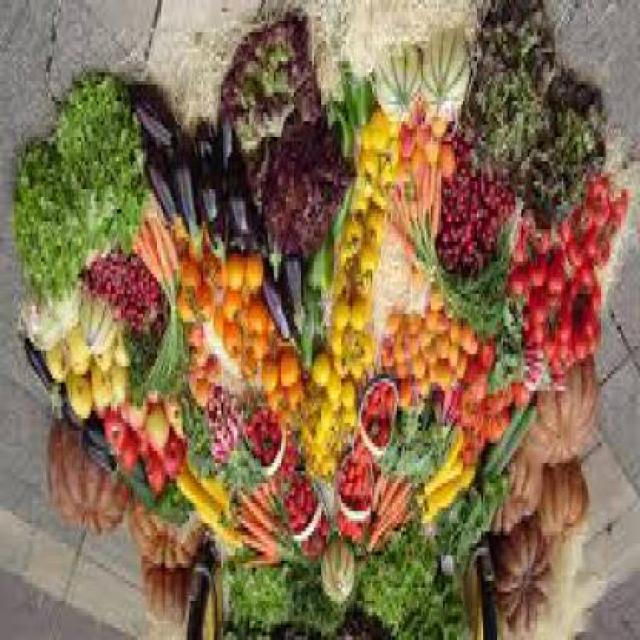BIODEGRADABLE: (462, 8, 558, 181), (61, 72, 147, 262), (249, 117, 357, 266), (219, 16, 324, 158), (441, 117, 519, 277), (428, 218, 527, 342), (16, 138, 90, 298), (529, 72, 606, 222), (46, 427, 131, 544), (356, 528, 441, 635), (520, 366, 602, 471), (127, 293, 191, 407), (492, 532, 559, 639), (440, 487, 514, 579), (130, 503, 208, 575), (376, 419, 455, 487), (91, 258, 163, 330), (364, 471, 419, 560), (424, 32, 473, 125), (489, 459, 545, 539), (289, 568, 349, 638), (232, 560, 292, 628), (538, 470, 590, 548), (228, 161, 266, 262), (374, 48, 423, 125), (400, 588, 475, 638), (143, 564, 195, 636), (130, 475, 196, 531), (490, 306, 528, 399), (418, 435, 468, 503), (134, 97, 180, 165), (188, 468, 244, 523), (411, 451, 466, 507), (148, 157, 186, 237), (210, 394, 248, 472), (484, 415, 528, 479), (178, 475, 228, 531), (425, 471, 477, 523), (180, 152, 206, 254), (268, 282, 302, 358), (82, 294, 122, 358), (499, 415, 538, 479), (204, 173, 231, 265), (20, 298, 60, 358), (322, 543, 356, 608), (362, 386, 396, 451), (82, 427, 121, 482), (360, 109, 398, 165), (388, 218, 426, 273), (153, 226, 179, 306), (189, 415, 220, 482), (574, 286, 601, 362), (528, 350, 568, 399), (344, 72, 376, 132), (246, 407, 280, 462), (28, 342, 58, 402), (286, 262, 308, 342), (342, 459, 375, 512), (142, 226, 167, 294), (306, 242, 336, 298), (330, 186, 358, 246), (306, 298, 326, 378), (288, 483, 318, 535), (332, 101, 354, 168), (59, 286, 85, 342), (451, 390, 483, 435), (55, 399, 87, 443), (524, 326, 562, 362), (69, 382, 96, 432), (147, 410, 173, 459), (198, 133, 219, 189), (464, 362, 490, 407), (219, 104, 238, 164), (435, 390, 459, 435), (531, 213, 555, 258), (398, 193, 420, 242), (69, 334, 93, 378), (350, 334, 376, 374), (516, 218, 536, 270), (527, 290, 553, 330), (556, 294, 576, 346), (205, 527, 248, 551), (163, 439, 185, 483), (486, 410, 512, 447), (378, 164, 397, 213), (121, 435, 142, 479), (279, 362, 304, 398), (268, 230, 283, 290), (95, 342, 122, 375), (94, 374, 114, 418), (124, 406, 150, 439), (586, 185, 612, 218), (51, 350, 72, 390), (168, 402, 189, 442), (109, 418, 131, 456), (465, 434, 487, 472), (306, 527, 332, 559), (179, 294, 201, 331), (149, 463, 169, 503), (360, 166, 380, 206), (366, 218, 386, 258), (360, 254, 380, 294), (322, 398, 342, 438), (414, 174, 428, 229), (138, 238, 157, 278), (549, 254, 568, 294), (252, 306, 273, 342), (165, 233, 181, 278), (441, 149, 459, 189), (312, 434, 330, 474), (225, 298, 247, 330), (316, 354, 335, 391), (489, 390, 517, 415), (248, 262, 266, 298), (513, 274, 533, 306), (340, 519, 365, 544), (225, 334, 244, 366), (243, 354, 262, 386), (111, 371, 126, 411), (204, 250, 219, 290), (612, 205, 630, 238), (217, 258, 235, 290), (334, 278, 352, 310), (336, 302, 352, 338), (401, 128, 416, 166), (434, 366, 454, 394), (230, 257, 245, 294), (117, 342, 132, 378), (186, 262, 206, 289), (355, 298, 370, 334), (529, 262, 549, 289), (558, 218, 578, 245), (342, 387, 361, 415), (559, 346, 578, 374), (481, 342, 497, 375), (412, 359, 431, 386), (199, 290, 215, 322), (395, 342, 413, 370), (198, 386, 213, 419), (580, 209, 595, 242), (354, 202, 372, 229), (332, 374, 345, 411), (325, 455, 340, 487), (292, 386, 306, 419), (382, 342, 396, 375), (396, 169, 415, 193), (388, 314, 407, 338), (436, 185, 444, 241), (463, 330, 479, 358), (598, 209, 614, 237), (401, 387, 416, 415), (429, 168, 437, 218), (286, 455, 302, 479), (586, 237, 602, 261), (406, 338, 425, 358), (408, 318, 427, 338), (240, 314, 254, 341), (268, 371, 282, 398), (598, 242, 612, 269), (518, 390, 533, 415), (580, 265, 595, 290), (432, 286, 445, 314), (427, 145, 442, 169), (415, 386, 433, 406), (344, 410, 358, 435), (427, 310, 441, 335), (574, 245, 588, 270), (272, 395, 286, 419), (332, 338, 346, 362), (195, 330, 208, 355), (141, 435, 153, 462), (399, 366, 415, 386), (281, 415, 294, 439), (258, 342, 272, 362), (352, 366, 365, 386), (435, 125, 451, 141), (453, 322, 462, 350), (220, 314, 229, 341), (201, 358, 213, 378), (380, 431, 392, 451), (441, 346, 453, 366), (429, 346, 438, 371), (459, 358, 468, 382), (419, 358, 428, 382), (298, 487, 305, 515), (552, 302, 560, 326), (193, 354, 201, 374), (345, 214, 366, 221), (442, 322, 451, 338), (194, 387, 203, 402), (244, 298, 251, 314), (248, 346, 255, 362), (451, 355, 458, 370), (292, 504, 298, 519), (348, 491, 354, 503)
